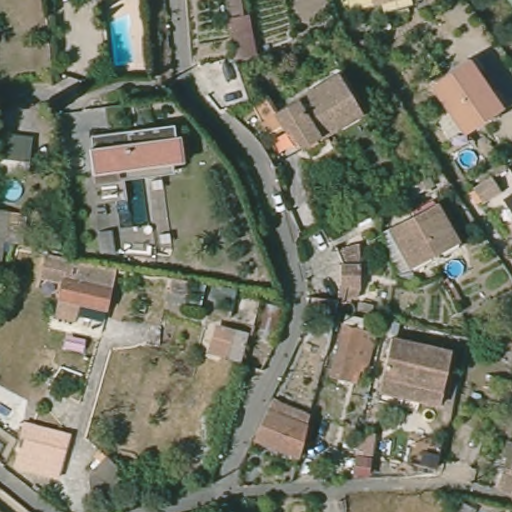pool: (105, 14, 138, 69), (2, 173, 28, 205), (452, 146, 481, 171), (442, 257, 466, 279)
